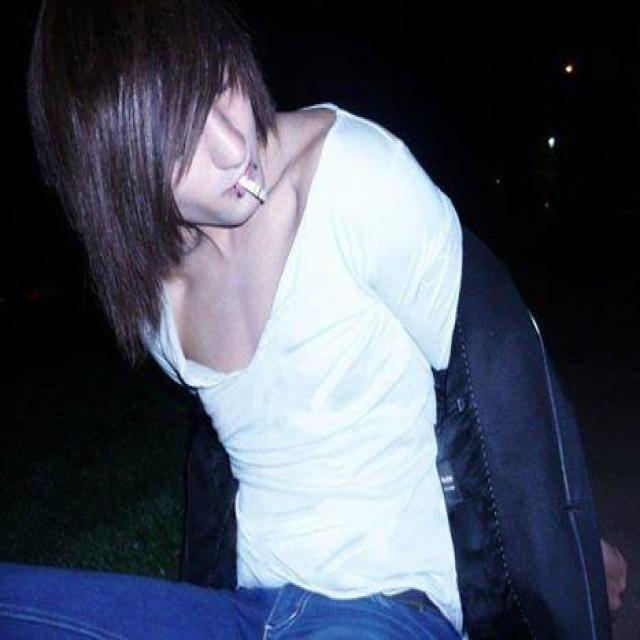Сигарета: (238, 172, 268, 203)
Тело: (87, 38, 464, 640)
